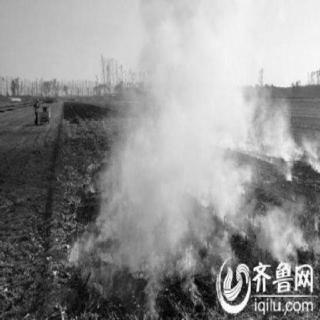Smoke: (267, 211, 293, 255)
